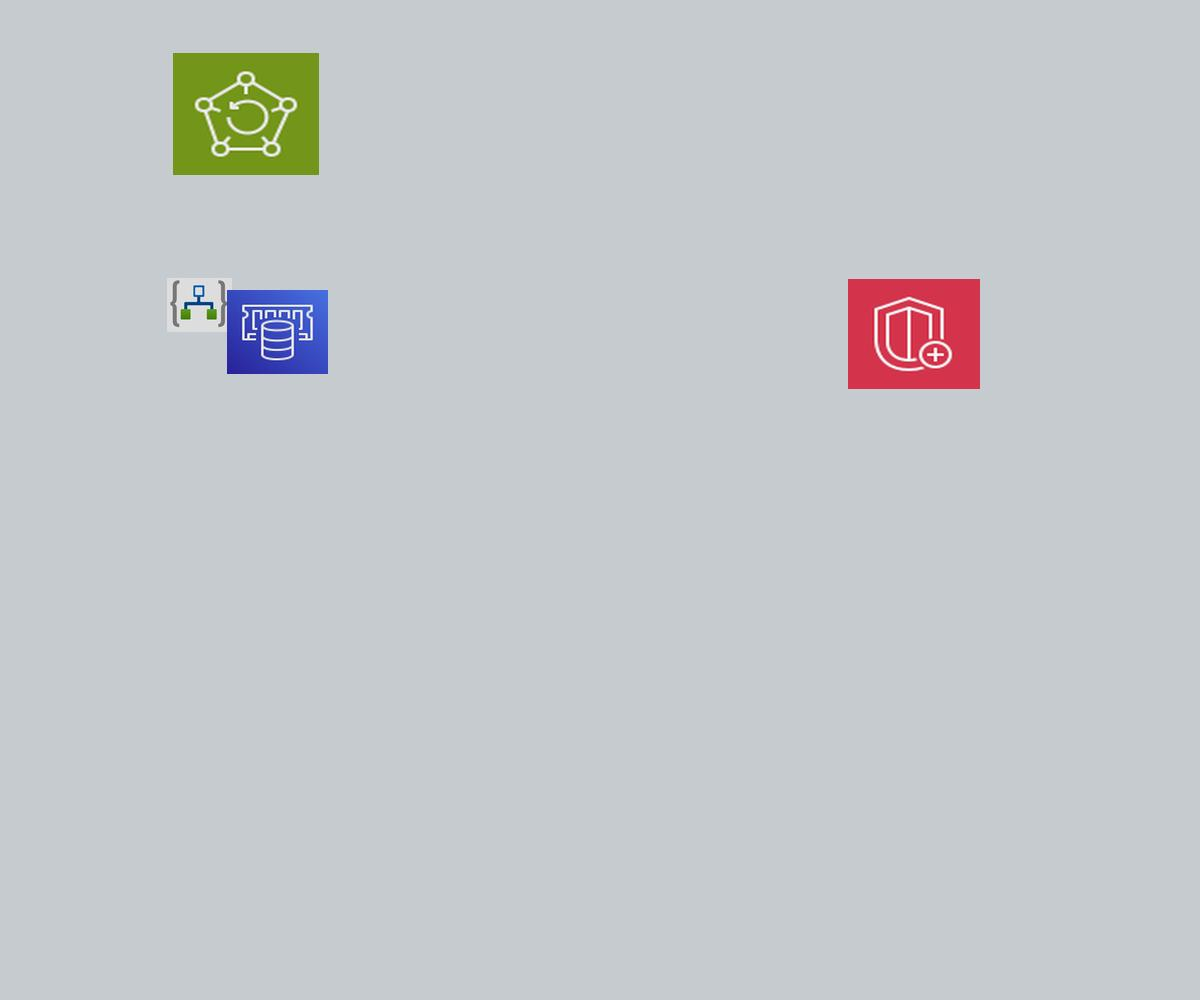AWS-Backup: (173, 53, 319, 175)
AWS-ElastiCache: (227, 290, 328, 374)
AWS-Shield: (848, 279, 980, 389)
Azure_integration-204-Logic-Apps: (167, 278, 232, 332)
